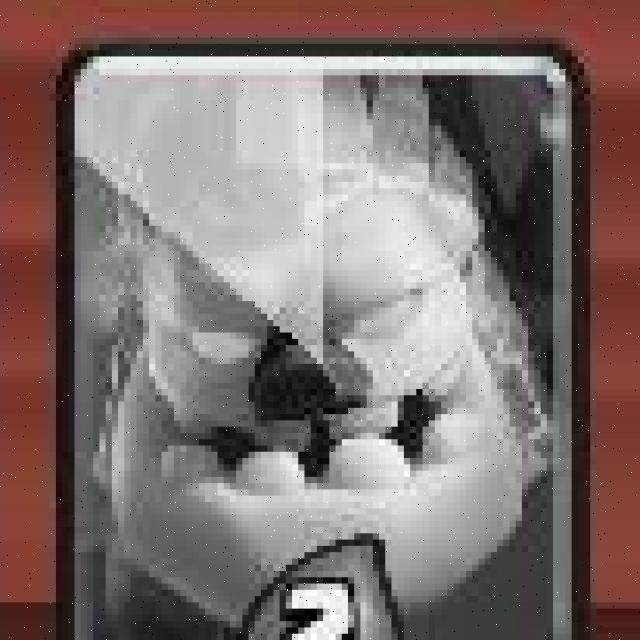Ice_Golem: (58, 45, 580, 640)
